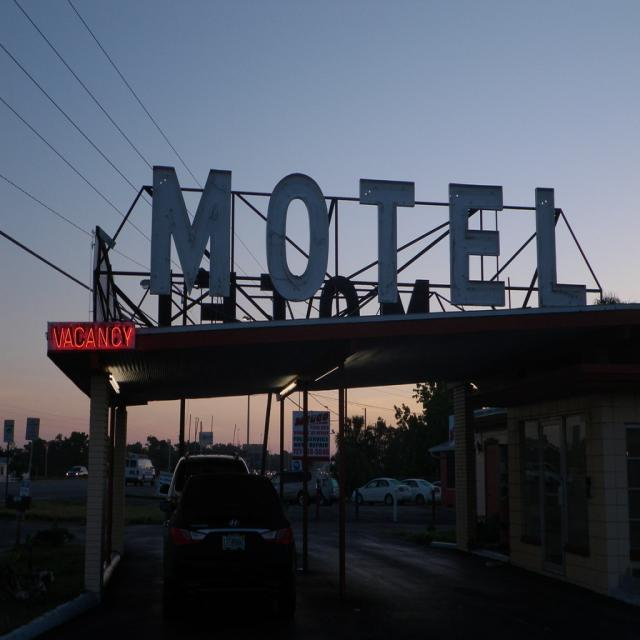car: (150, 452, 299, 620), (354, 477, 413, 501)
